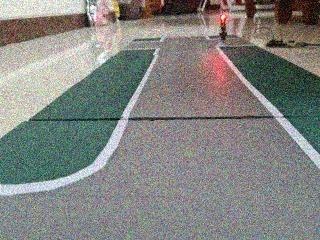red: (216, 12, 230, 43)
